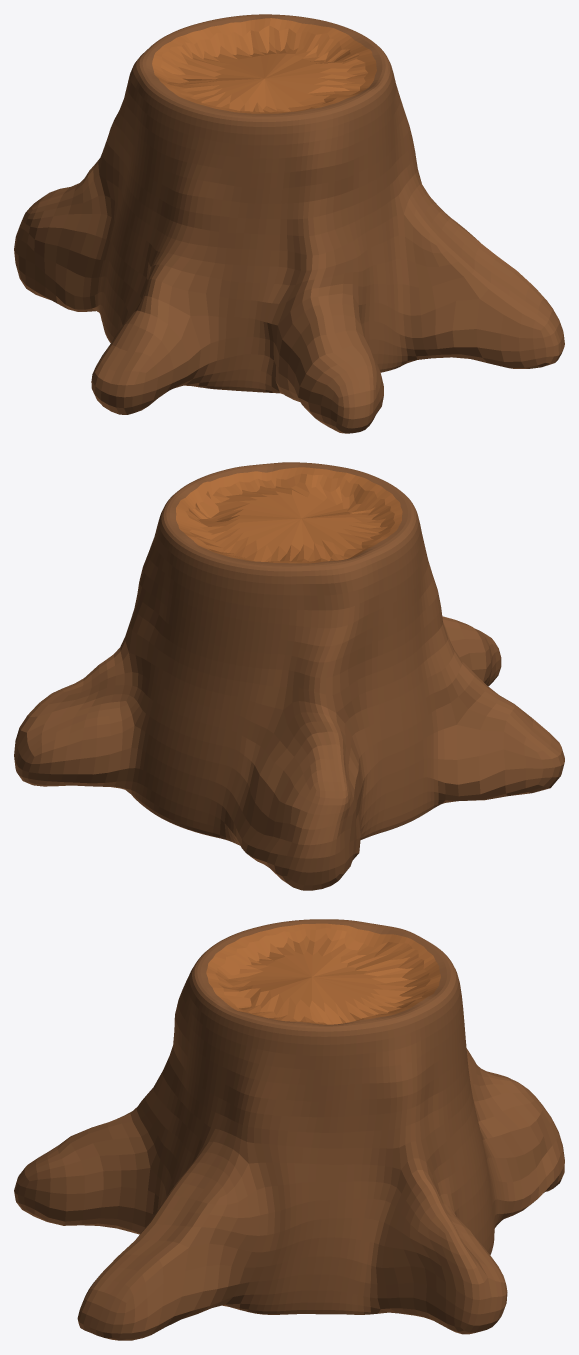
The model's file is Baumstumpf.fbx.
3 views of the same model, one above another, from view 1: azimuth 30°, elevation 25°; view 2: azimuth 150°, elevation 25°; view 3: azimuth 270°, elevation 25° (orthographic). The views are drawn at different scales.
Parts seen in each view (by area): view 1: Cylinder; view 2: Cylinder; view 3: Cylinder.
Part boxes in pixels (bbox=[...]): Cylinder: bbox=[14, 14, 564, 433]; Cylinder: bbox=[14, 462, 564, 890]; Cylinder: bbox=[14, 919, 564, 1340].
Bounding box in the file's own units: 112 × 67.73 × 121.
